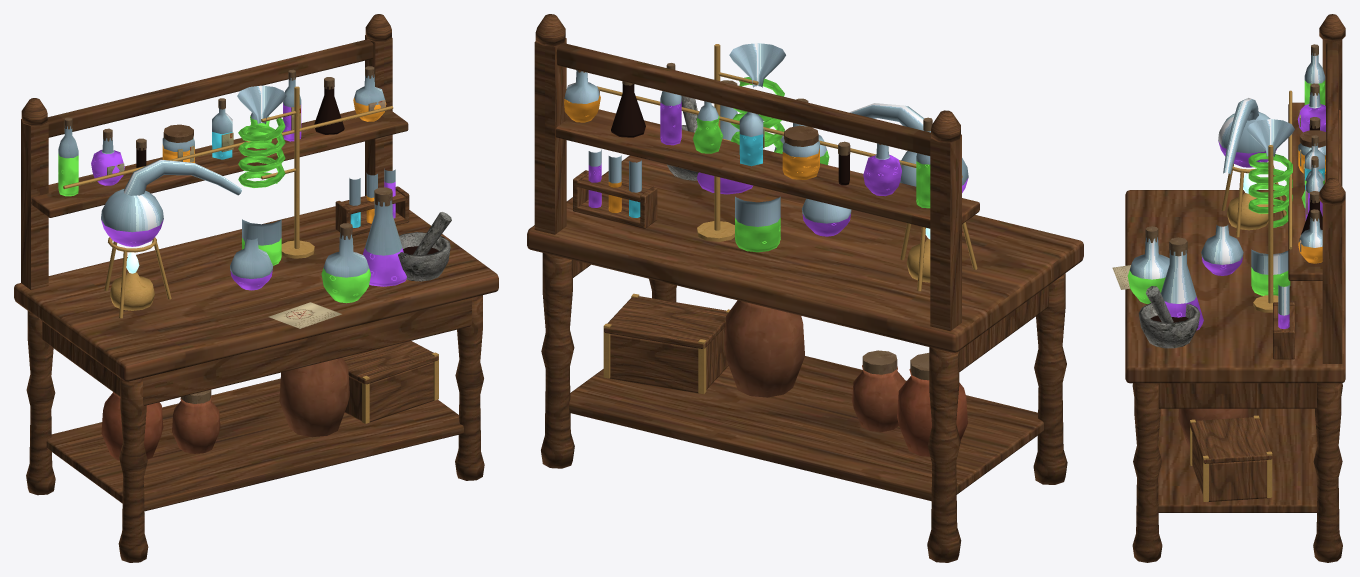
File: prop_alchemyTable.glb
The picture shows the model from 3 angles, left to right: view 1: azimuth 30°, elevation 25°; view 2: azimuth 150°, elevation 25°; view 3: azimuth 270°, elevation 25°; orthographic projection. The views are drawn at different scales.
Parts seen in each view (by area): view 1: prop; view 2: prop; view 3: prop.
Boxes of the visible parts, x1=… form: prop: x1=14, y1=14, x2=498, y2=562; prop: x1=527, y1=14, x2=1083, y2=562; prop: x1=1112, y1=14, x2=1345, y2=562.
Size of what is drawn, in the model's own units: 0.96 by 0.95 by 0.53.
13 materials, 11 textured.
